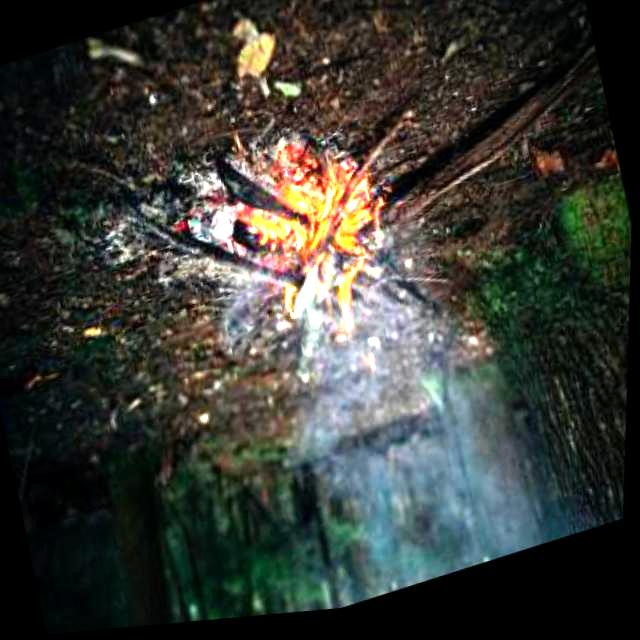fire: (245, 140, 397, 336)
